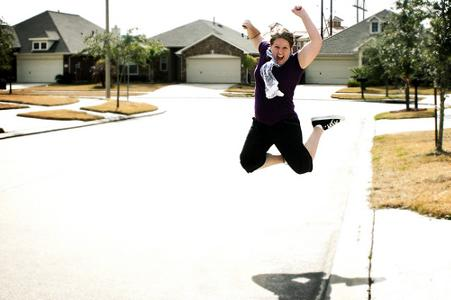person: (238, 5, 346, 174)
